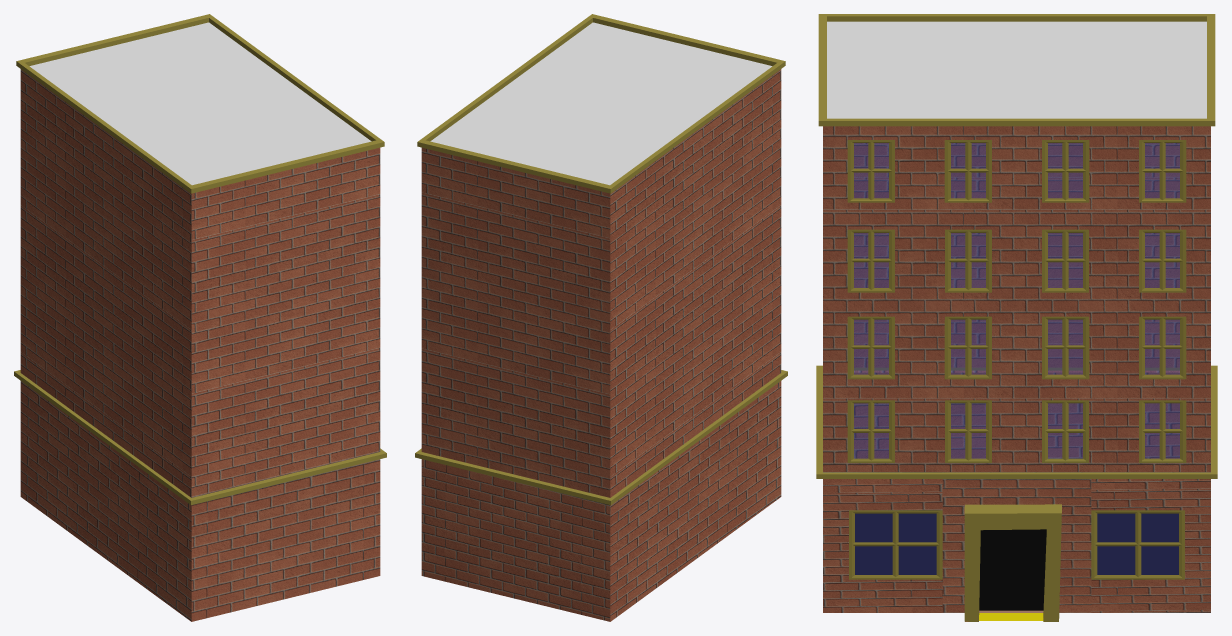
Rendered from building.glb.
3 renders of one model, left to right at view 1: azimuth 30°, elevation 25°; view 2: azimuth 150°, elevation 25°; view 3: azimuth 270°, elevation 25°, orthographic. The views are drawn at different scales.
Visible parts, largest first — view 1: building_001; view 2: building_001; view 3: building_001.
Part boxes in pixels (bbox=[...]): building_001: bbox=[14, 14, 386, 621]; building_001: bbox=[415, 14, 787, 621]; building_001: bbox=[816, 14, 1217, 621].
Bounding box in the file's own units: 13.04 × 25.94 × 19.14.
6 materials, 1 textured.
